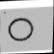no answer: (3, 14, 36, 44)
